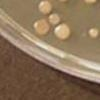white: (53, 22, 70, 40), (33, 19, 49, 35), (38, 0, 52, 15), (88, 27, 100, 41), (49, 13, 60, 25), (57, 0, 68, 4), (85, 0, 98, 3)
